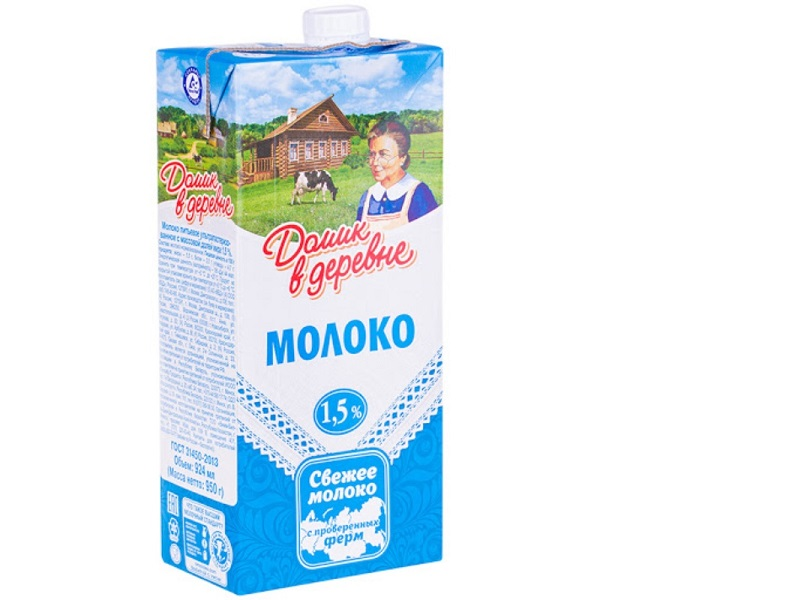milk: (110, 1, 493, 595)
